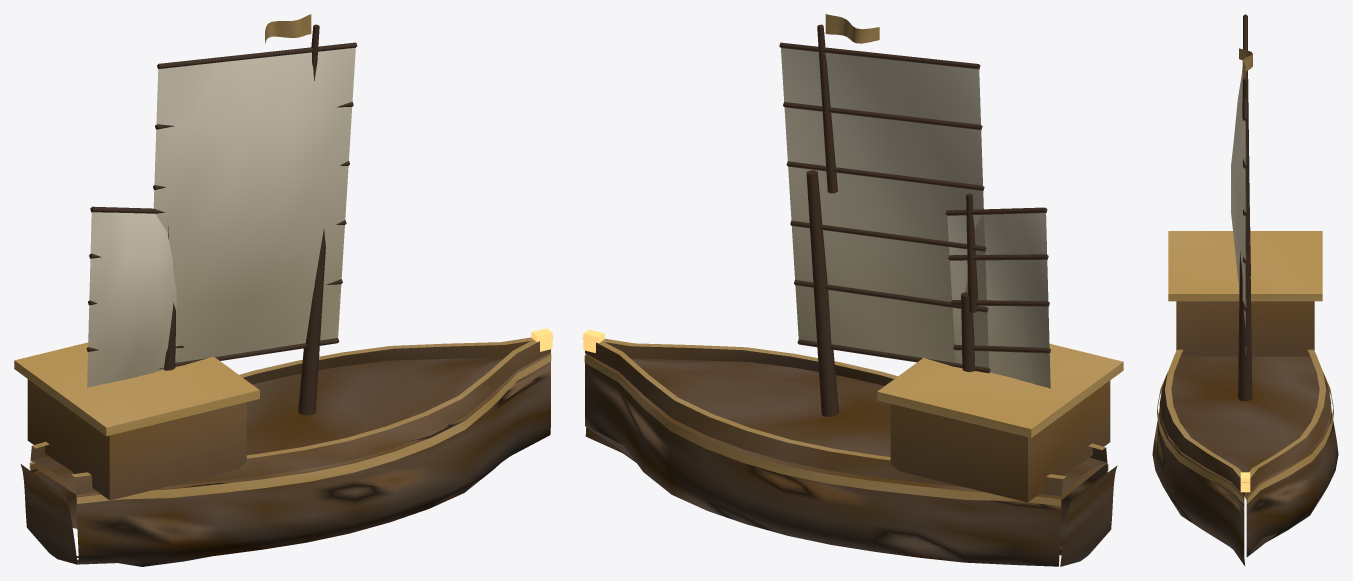
Rendered from garden-hero-xebec.glb.
The picture shows the model from 3 angles, left to right: view 1: azimuth 30°, elevation 25°; view 2: azimuth 150°, elevation 25°; view 3: azimuth 270°, elevation 25°; orthographic projection. The views are drawn at different scales.
Parts seen in each view (by area): view 1: wood-hull, sail-hull, trim-hull, spar-hull; view 2: wood-hull, sail-hull, trim-hull, spar-hull; view 3: wood-hull, trim-hull, spar-hull, sail-hull.
Boxes of the visible parts, bbox=[...] form: wood-hull: bbox=[20, 14, 552, 566]; sail-hull: bbox=[87, 48, 355, 387]; trim-hull: bbox=[14, 342, 551, 503]; spar-hull: bbox=[86, 24, 357, 415]; wood-hull: bbox=[582, 14, 1117, 566]; sail-hull: bbox=[781, 48, 1050, 388]; trim-hull: bbox=[584, 344, 1123, 505]; spar-hull: bbox=[779, 24, 1050, 416]; wood-hull: bbox=[1152, 48, 1338, 566]; trim-hull: bbox=[1157, 231, 1333, 503]; spar-hull: bbox=[1238, 14, 1252, 401]; sail-hull: bbox=[1231, 67, 1245, 328].
Bounding box in the file's own units: 9.08 × 8.77 × 3.43.
